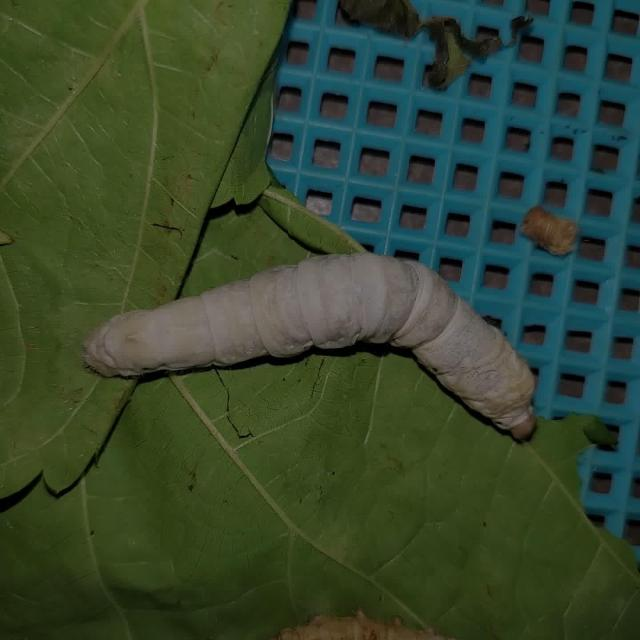Grasserie: (68, 222, 553, 452)
